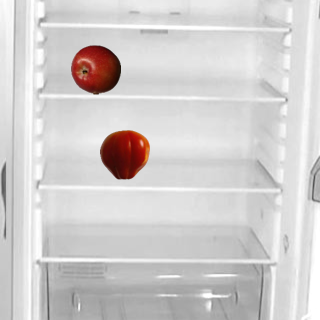Apple Braeburn: (70, 44, 120, 94)
Tomato 1: (99, 129, 149, 179)
